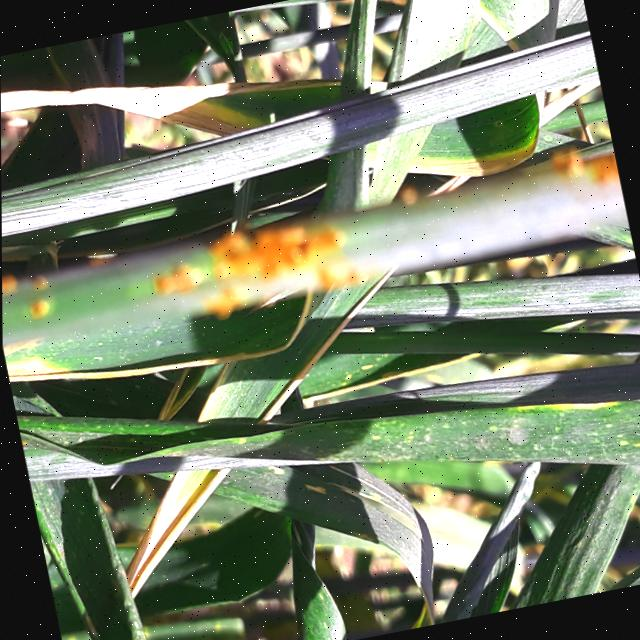black_stem_rust: (1, 98, 640, 475)
